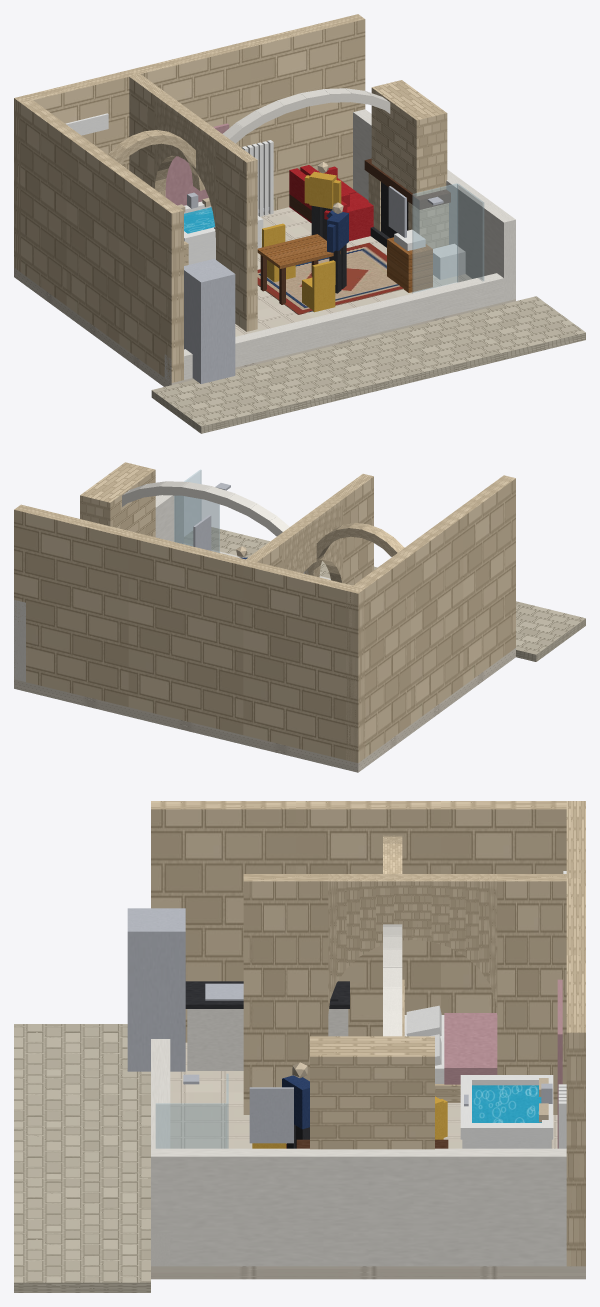
The model's file is coppia5_alfieri.glb.
3 renders of one model, top to bottom at view 1: azimuth 30°, elevation 25°; view 2: azimuth 150°, elevation 25°; view 3: azimuth 270°, elevation 25°, orthographic. The views are drawn at different scales.
Parts seen in each view (by area): view 1: Wall_W, Wall_N, Cisternino_Step, Bed_Arch, Wall_Front_Cut, Alf_Fire_hood, Wall_E_Cut, Alf_Kitchen_fridge, Alf_Bath_sh_gl1, Alfieri_Floor, Alf_Rug_rug, Cisternino_Step_sub (+19 smaller); view 2: Wall_N, Wall_W, Bed_Arch, Alfieri_Floor_sub, Alf_Fire_hood, Cisternino_Step, Wall_E_Cut, Alf_Bath_sh_gl1, Alf_Bath_sh_gl2, Cisternino_Step_sub, Alf_Bath_mirror, Barrel_C_r5 (+1 smaller); view 3: Wall_E_Cut, Wall_W, Bed_Arch, Cisternino_Step, Alf_Fire_hood, Wall_N, Alf_Kitchen_fridge, Alfieri_Floor, Alfieri_Floor_sub, Alf_Kitchen_cab, Alf_Bed_quilt, Alf_Bath_sh_gl2 (+13 smaller).
Boxes of the visible parts, box(x1,y1,x2,y2) form: Wall_W: box(21, 100, 183, 382); Wall_N: box(14, 14, 365, 272); Cisternino_Step: box(152, 296, 585, 426); Bed_Arch: box(129, 74, 257, 331); Wall_Front_Cut: box(164, 273, 503, 382); Alf_Fire_hood: box(371, 80, 447, 196); Wall_E_Cut: box(353, 109, 515, 301); Alf_Kitchen_fridge: box(184, 258, 235, 383); Alf_Bath_sh_gl1: box(412, 183, 457, 292); Alfieri_Floor: box(235, 207, 471, 336); Alf_Rug_rug: box(257, 242, 403, 314); Cisternino_Step_sub: box(151, 332, 585, 433); Wall_N: box(14, 504, 365, 762); Wall_W: box(346, 475, 515, 762); Bed_Arch: box(246, 473, 373, 585); Alfieri_Floor_sub: box(14, 648, 515, 772); Alf_Fire_hood: box(80, 462, 155, 537); Cisternino_Step: box(184, 527, 585, 654); Wall_E_Cut: box(14, 495, 183, 681); Alf_Bath_sh_gl1: box(174, 495, 219, 552); Alf_Bath_sh_gl2: box(174, 469, 201, 545); Cisternino_Step_sub: box(516, 618, 585, 661); Alf_Bath_mirror: box(193, 515, 211, 550); Barrel_C_r5: box(226, 493, 256, 515); Wall_E_Cut: box(151, 1148, 566, 1266); Wall_W: box(151, 801, 566, 1042); Bed_Arch: box(243, 874, 566, 1114); Cisternino_Step: box(14, 1024, 150, 1282); Alf_Fire_hood: box(310, 1036, 434, 1149); Wall_N: box(566, 801, 585, 1266); Alf_Kitchen_fridge: box(127, 908, 185, 1071); Alfieri_Floor: box(170, 1042, 557, 1148); Alfieri_Floor_sub: box(151, 1266, 585, 1279); Alf_Kitchen_cab: box(187, 1009, 348, 1070); Alf_Bed_quilt: box(444, 1013, 497, 1084); Alf_Bath_sh_gl2: box(155, 1103, 226, 1148).
Size of the model in its own units: 7.6 by 3.38 by 7.1.
18 materials, 18 textured.
